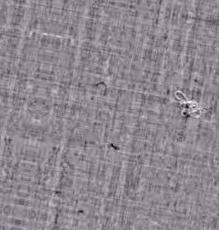snag: (170, 83, 208, 126)
